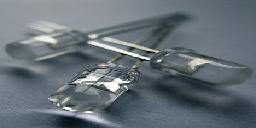LED: (48, 62, 145, 120), (148, 45, 251, 89), (6, 28, 96, 61)
